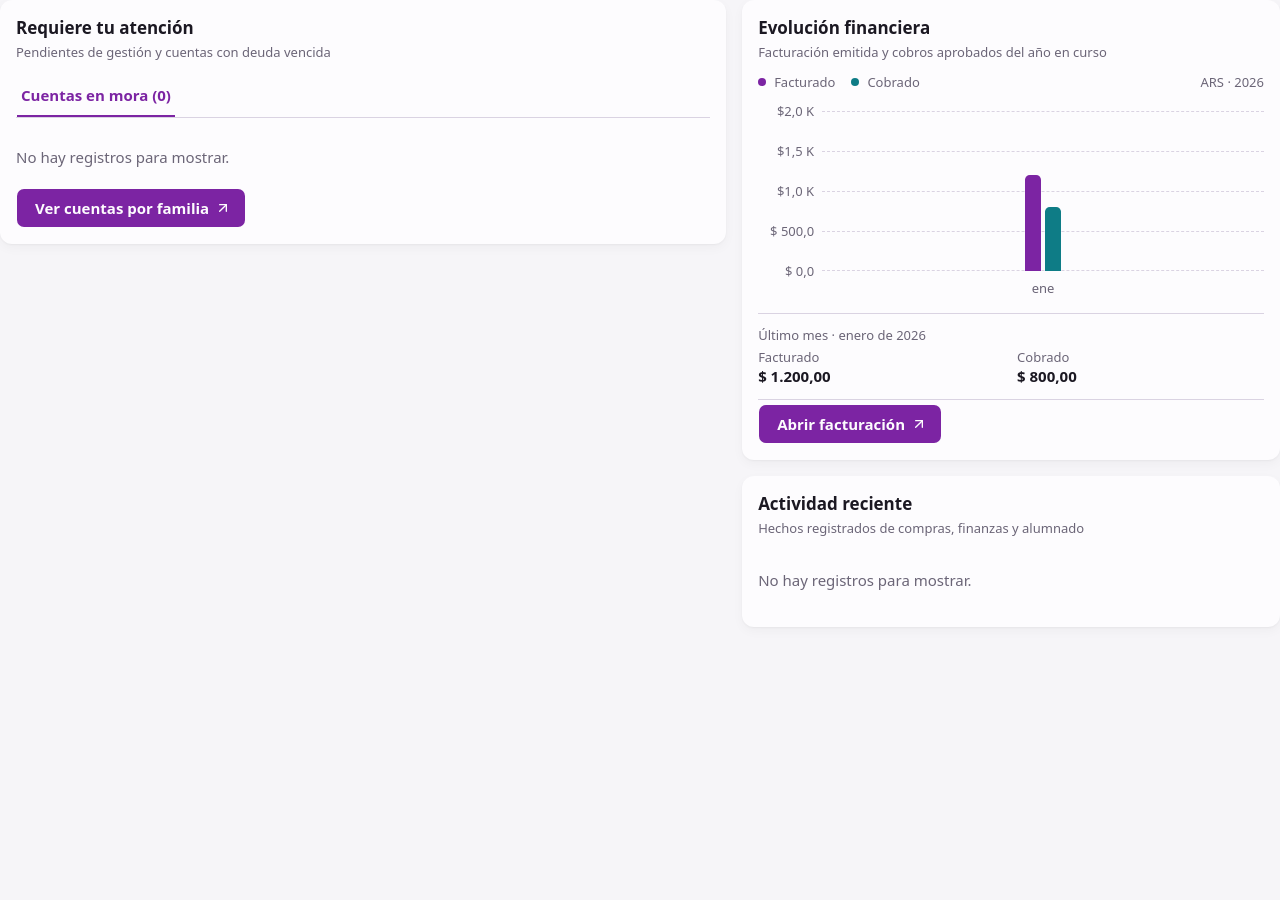
shows monthly billed and collected amounts in a keyboard-accessible tooltip
The image size is (1280, 900).
Focus the button named "Ver valores de 2026-01": (1043, 191) top-left (822, 111), bottom-right (1264, 271)
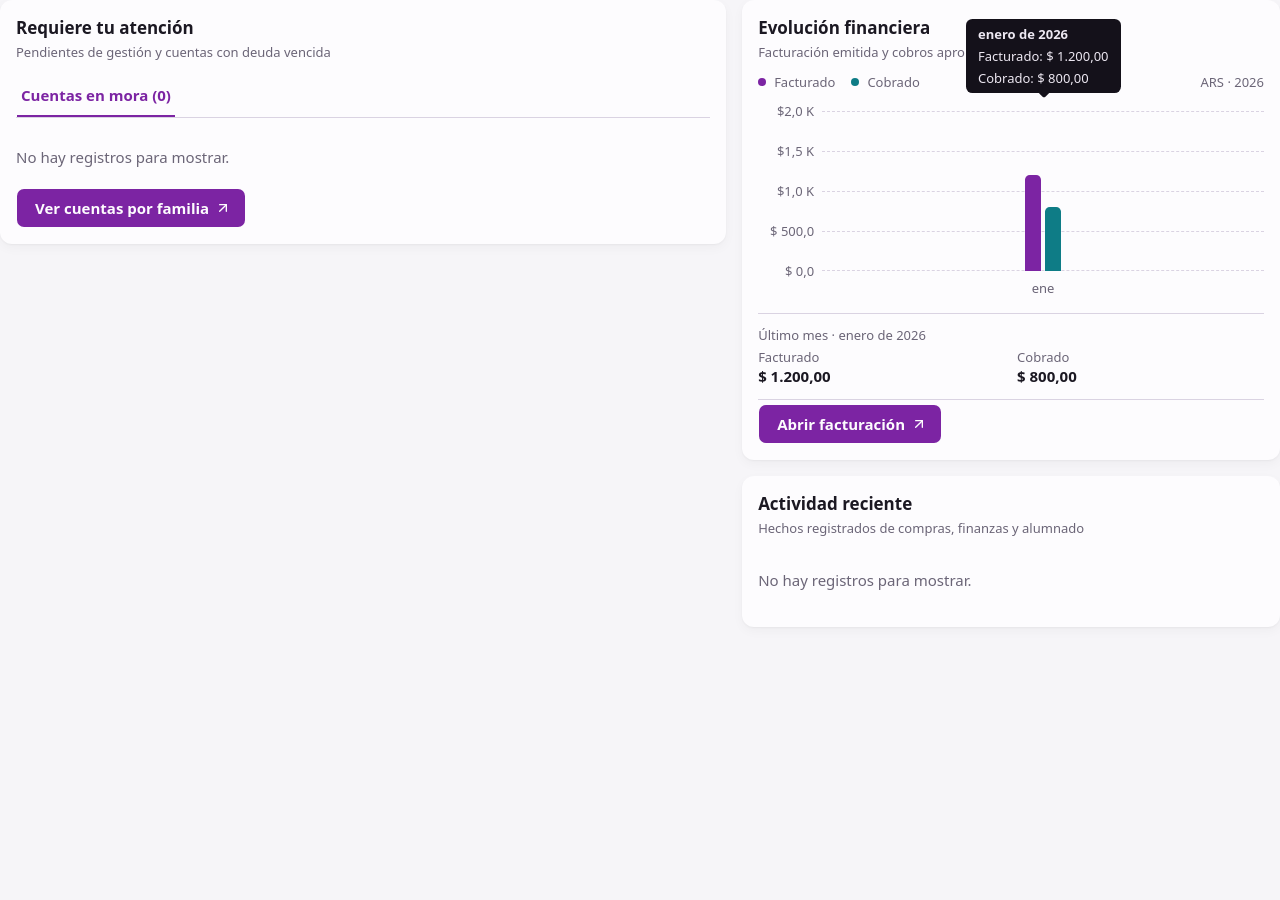
expect the text "Último mes · enero de 2026" is shown: met, box top-left (758, 326), bottom-right (926, 344)
expect the tooltip shows "enero de 2026": met, box top-left (978, 25), bottom-right (1068, 43)
expect the tooltip reads "enero de 2026 Facturado: $ 1.200,00 Cobrado: $ 800,00": met, box top-left (966, 19), bottom-right (1120, 93)
